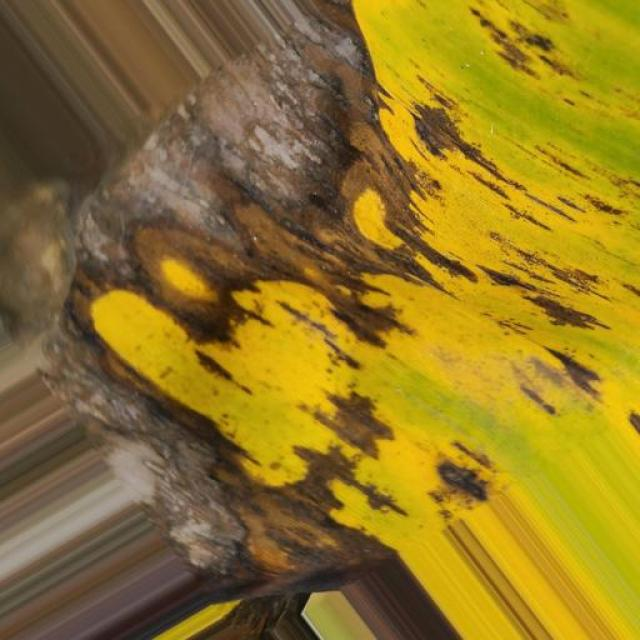Early_rust: (56, 0, 640, 587)
